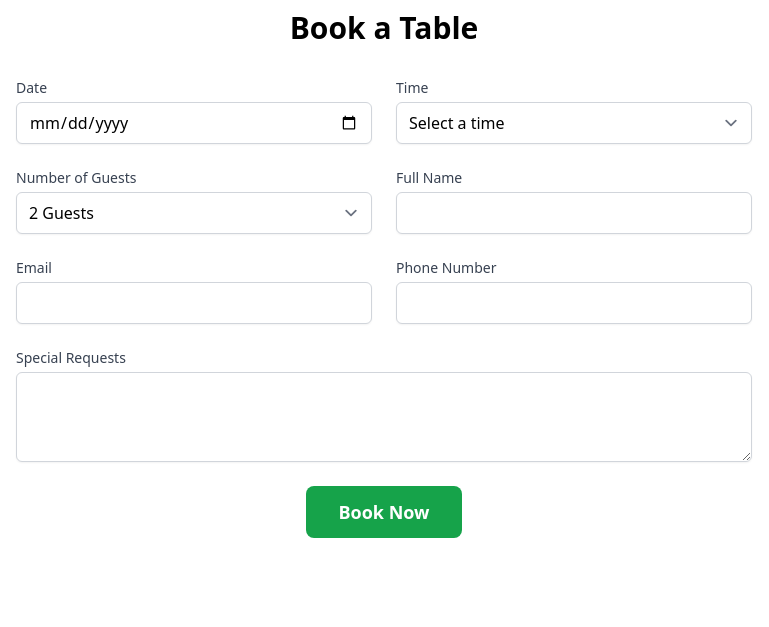
Test: Booking Component › validates required fields
Click the button "Book Now".
click(384, 512)  # box top-left (306, 486), bottom-right (462, 538)
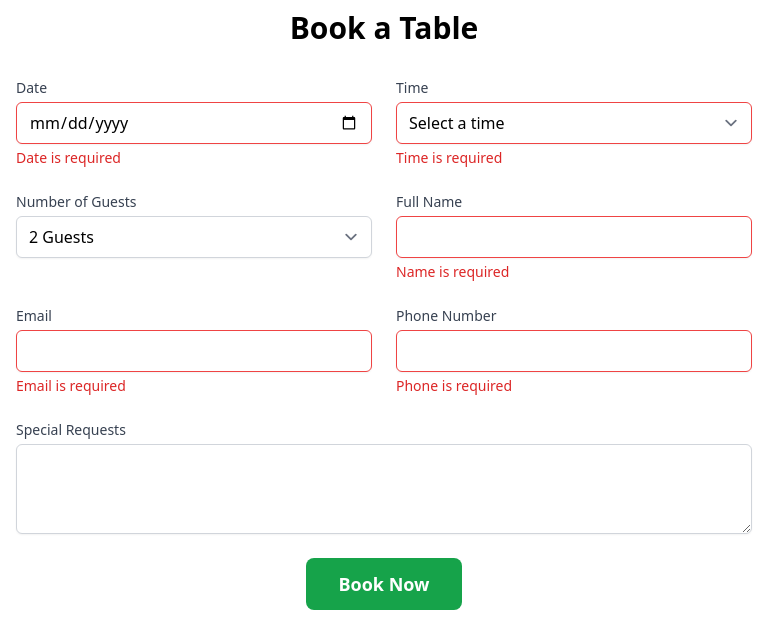
Expected: the text "Date is required" is shown, top-left (16, 148), bottom-right (121, 167)
Expected: the text "Time is required" is shown, top-left (396, 148), bottom-right (502, 167)
Expected: the text "Name is required" is shown, top-left (396, 262), bottom-right (509, 281)
